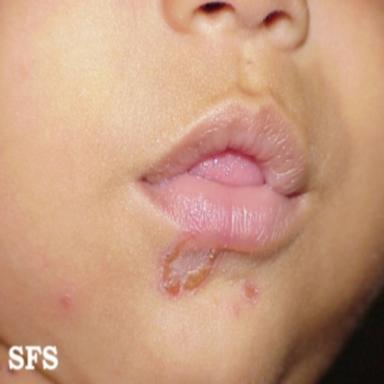Impetigo: (157, 230, 222, 300), (241, 279, 260, 305), (60, 293, 72, 309)
